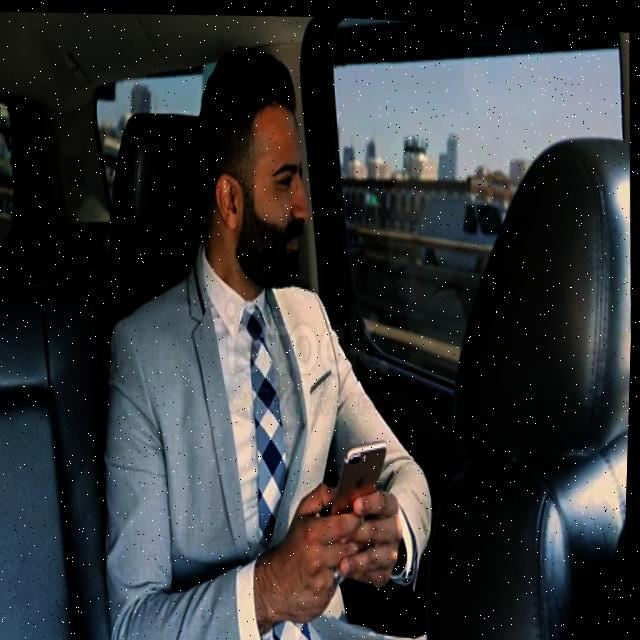PhoneCall: (334, 432, 391, 512)
